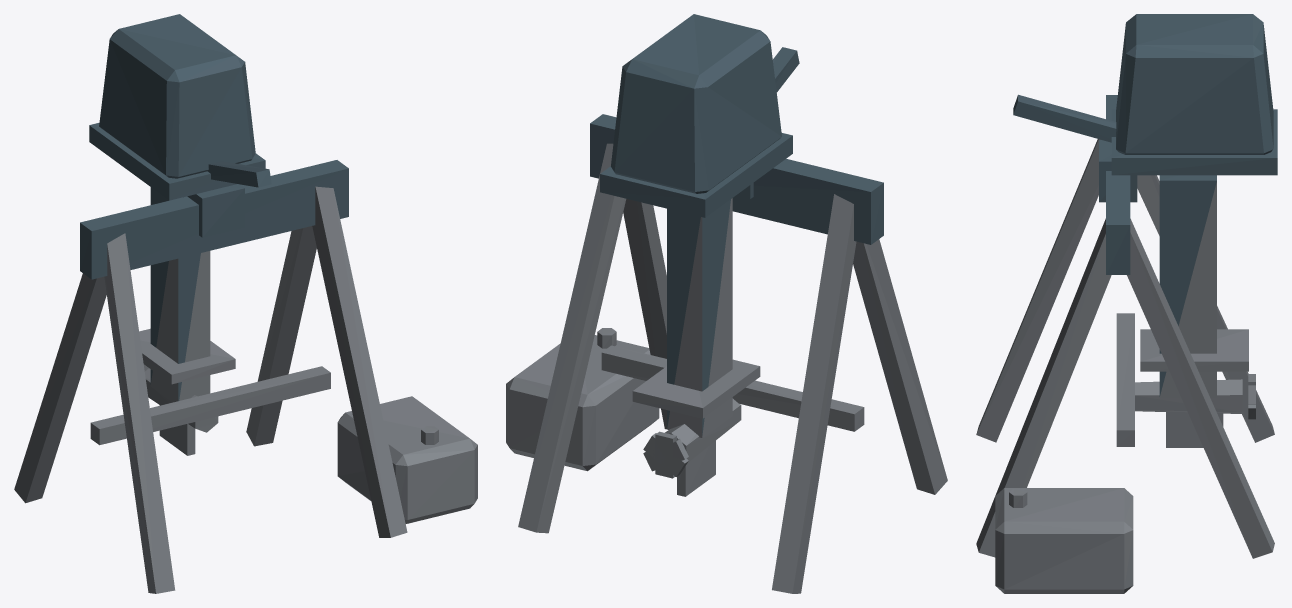
File: outboard-motor-00.glb
3 views of the same model, side by side, from view 1: azimuth 30°, elevation 25°; view 2: azimuth 150°, elevation 25°; view 3: azimuth 270°, elevation 25° (orthographic). The views are drawn at different scales.
Parts seen in each view (by area): view 1: outboard_motor_00; view 2: outboard_motor_00; view 3: outboard_motor_00.
Boxes of the visible parts, x1=… form: outboard_motor_00: x1=14, y1=14, x2=477, y2=593; outboard_motor_00: x1=506, y1=14, x2=947, y2=593; outboard_motor_00: x1=976, y1=14, x2=1277, y2=593.
Size of the model in its own units: 1.31 by 1.68 by 0.9815.
